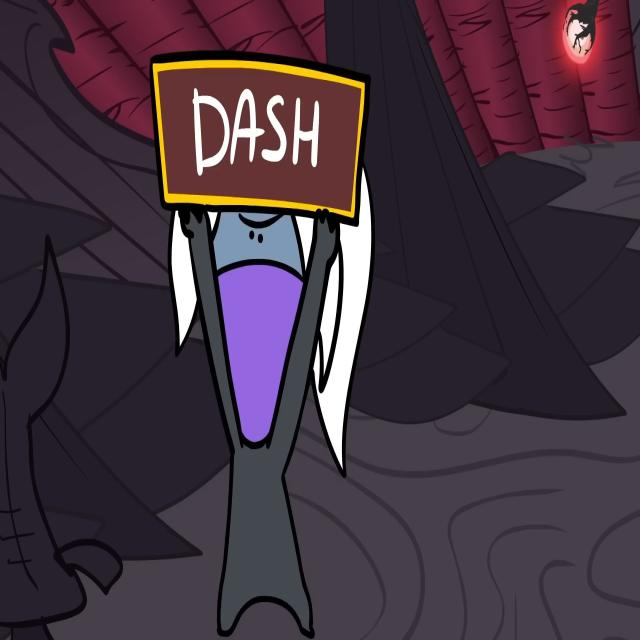miss Demeanor: (164, 154, 376, 639)
